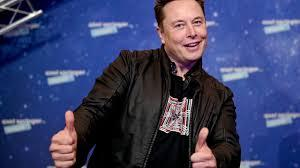Persons: (146, 0, 218, 65)
